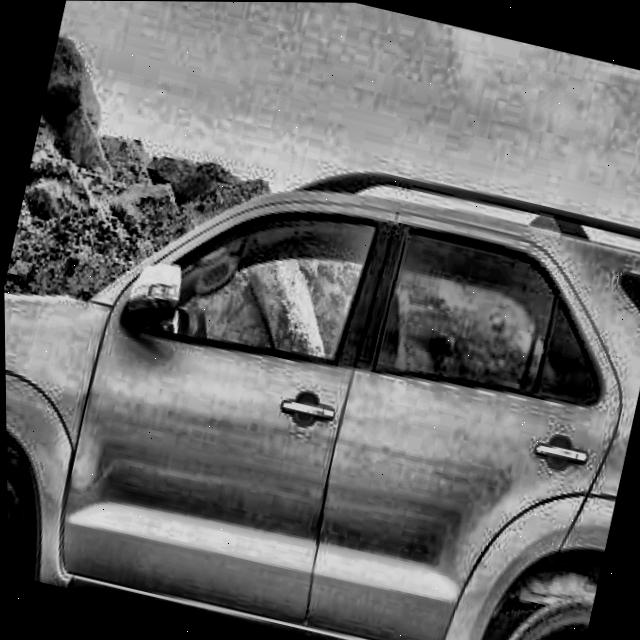light_vehicle: (1, 82, 640, 640)
